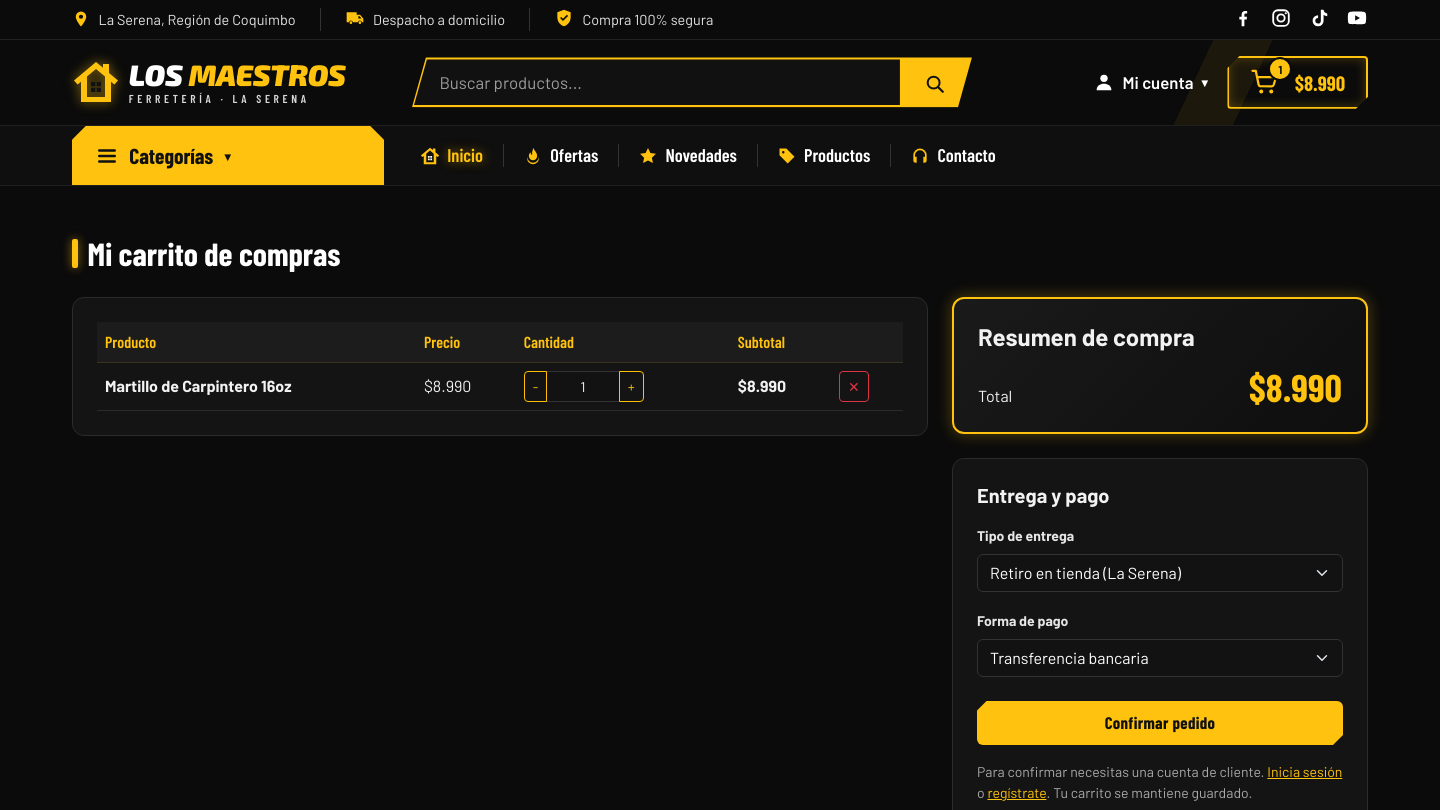
Test: Página Carrito › al elegir transferencia muestra la cuenta y el monto a transferir
Step 1. Select "Transferencia bancaria" in the dropdown with id "formaPago" → {"x": 1160, "y": 658}, box [977,638,1343,676]
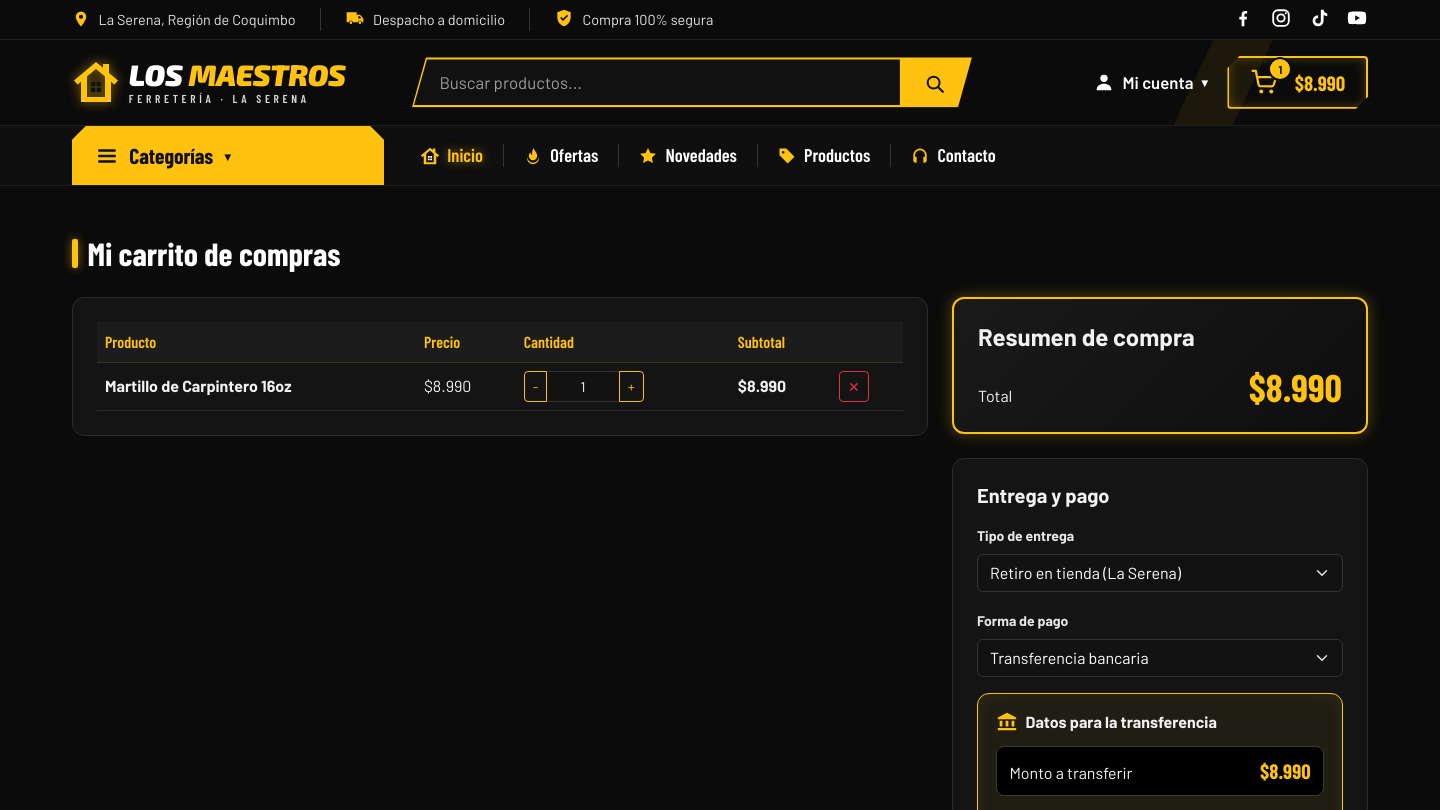
expect the text with test id "monto-transferencia" reads "$8.990": met, box [1260,758,1311,783]
